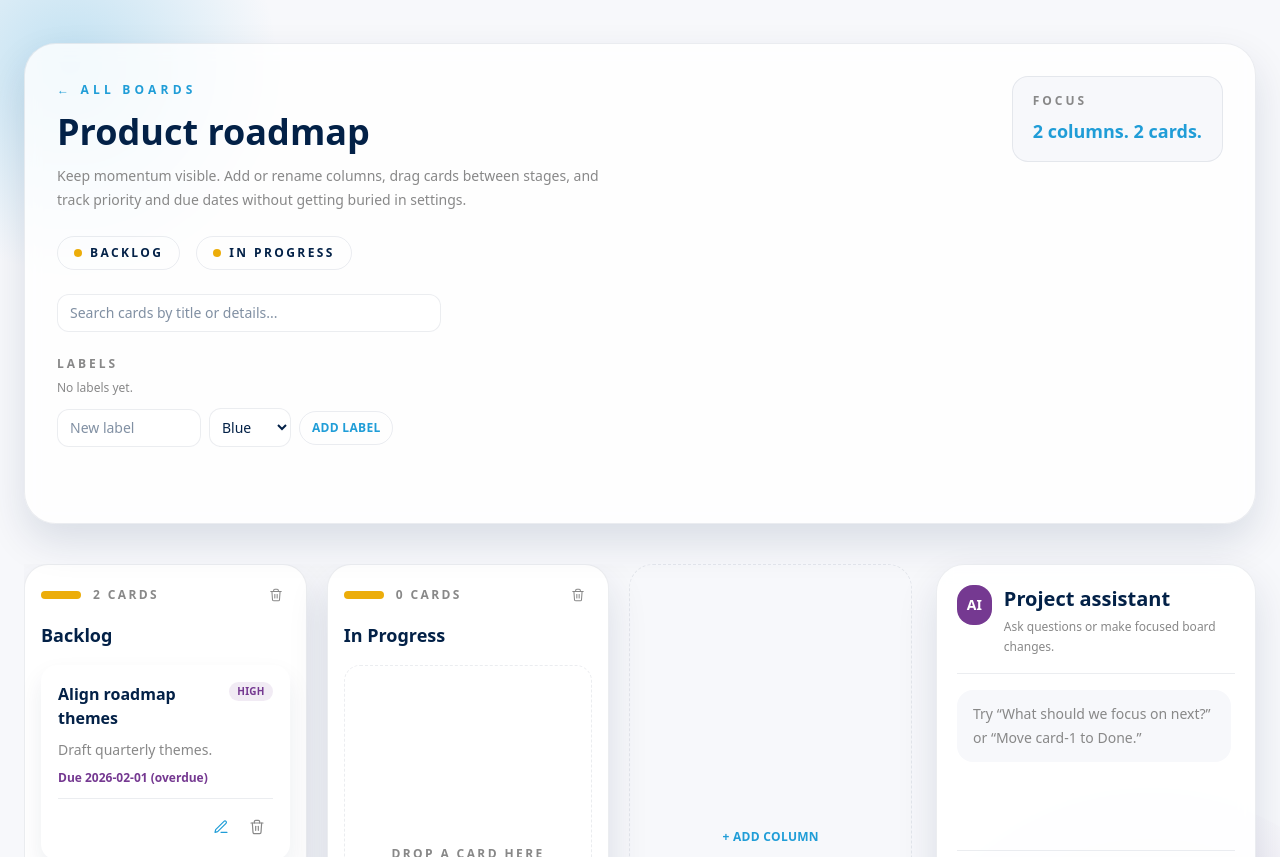
Scenario: KanbanBoard › discards edits when Cancel is clicked
This screenshot has width=1280, height=857.
Step 1. Click the button named "Edit Align roadmap themes" → (221, 827), box 205,811 -> 237,843
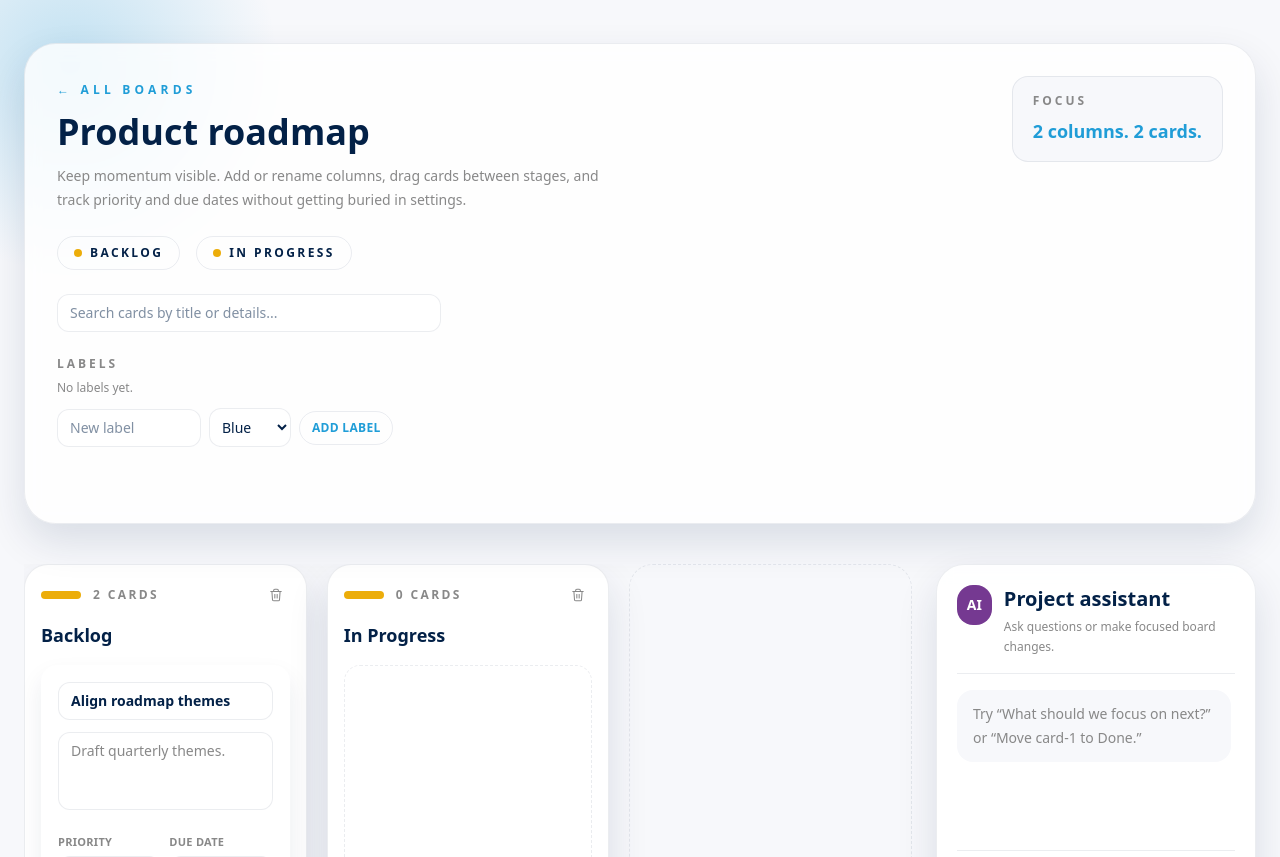
Step 2. Replace the text in the field named "Card title" with "Changed but discarded" → (165, 701), box 58,682 -> 273,720
(page scrolled)
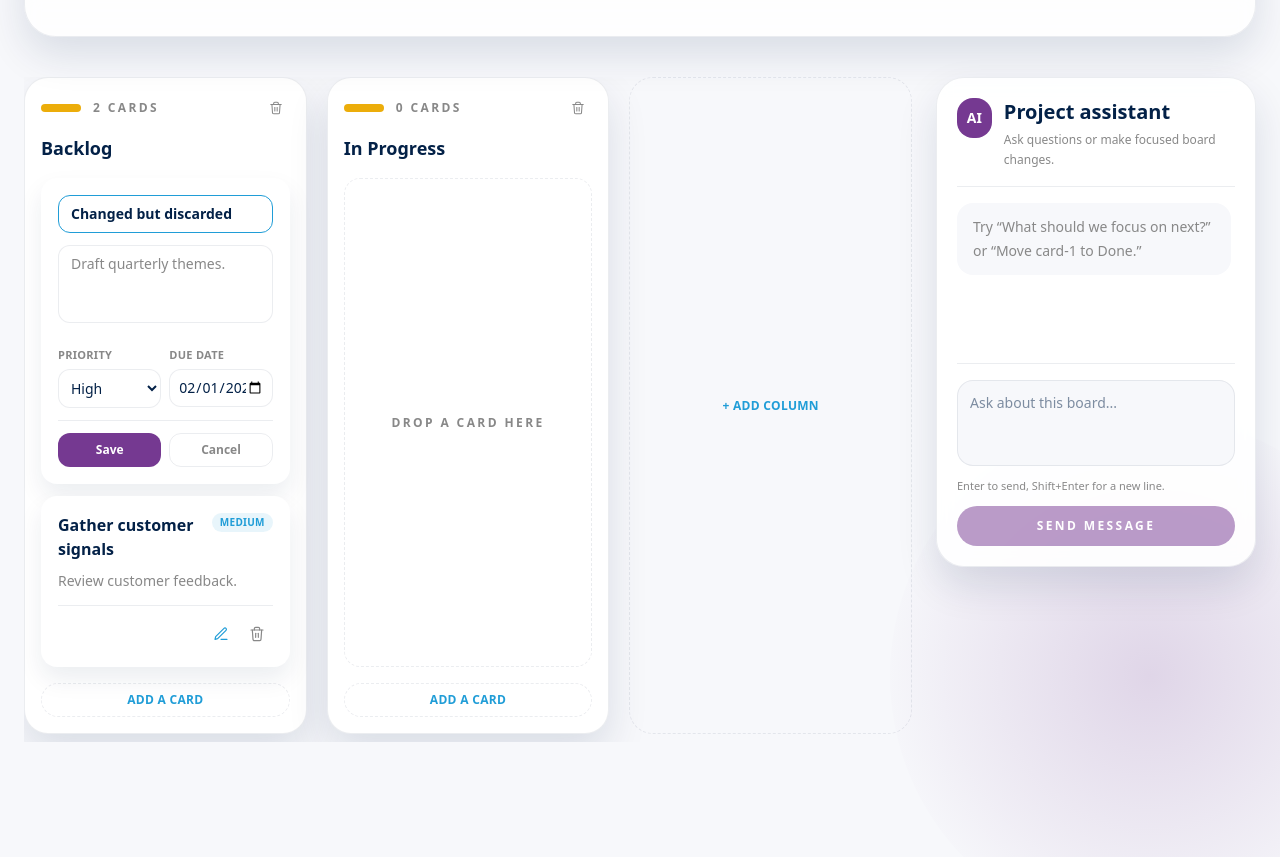
Step 3. Click the button "Cancel" → (221, 450), box 169,433 -> 273,467
(page scrolled)
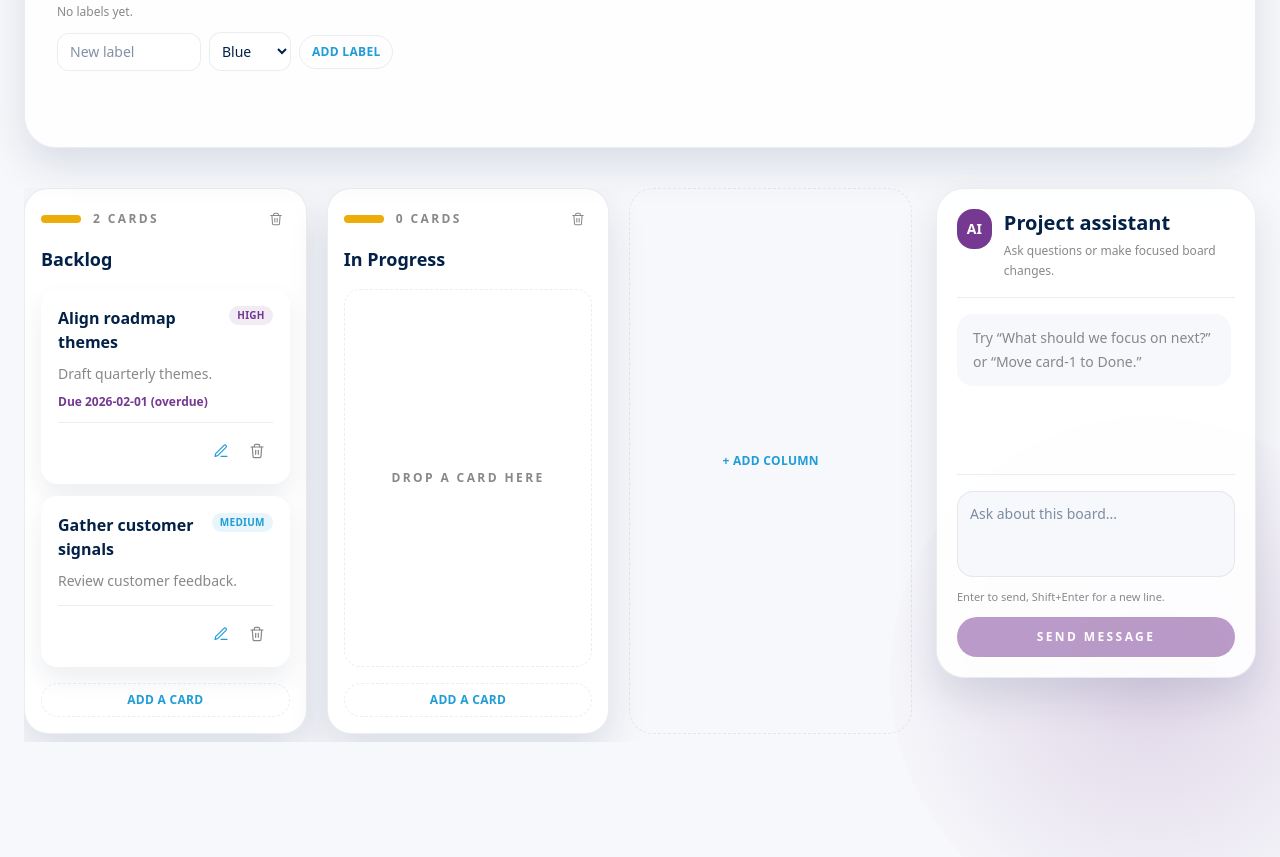
Expected: the text "Changed but discarded" is not shown
Expected: the heading "Align roadmap themes" is shown, 58,307 -> 176,353
